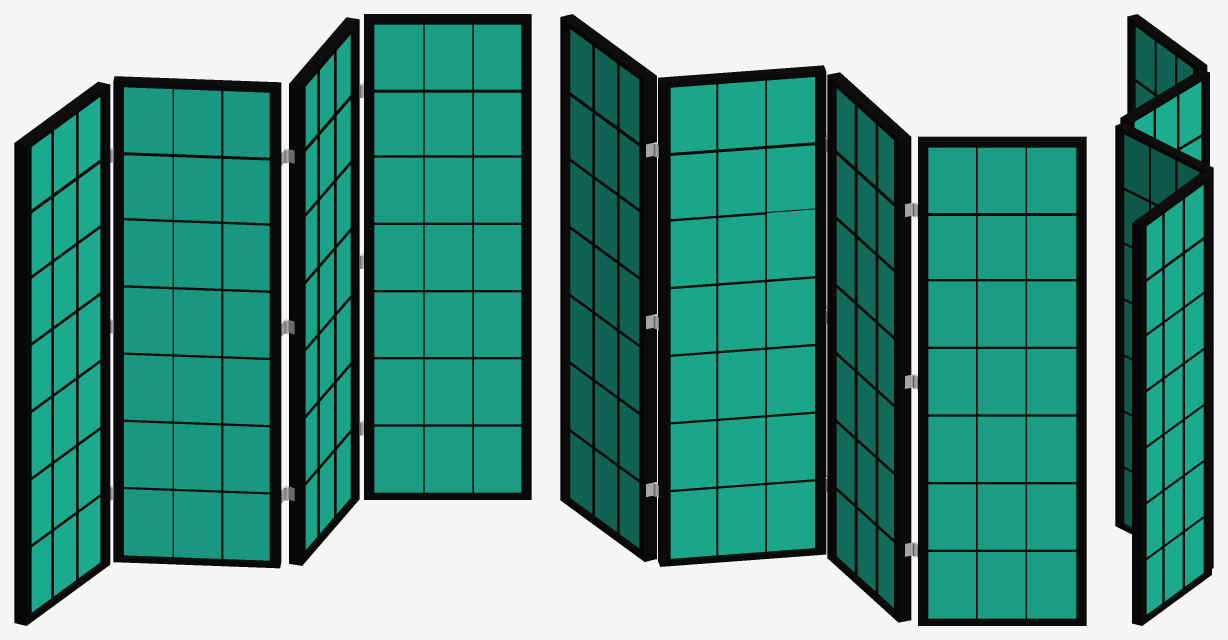
The model's file is paravent.FBX.
3 views of the same model, side by side, from view 1: azimuth 30°, elevation 25°; view 2: azimuth 150°, elevation 25°; view 3: azimuth 270°, elevation 25° (orthographic). The views are drawn at different scales.
Visible parts, largest first — view 1: Box275, Cylinder049; view 2: Box275, Cylinder049; view 3: Box275.
Part boxes in pixels (x1,y1,x2,y2): Box275: (14,14,531,625); Cylinder049: (110,81,363,503); Box275: (560,14,1086,625); Cylinder049: (646,134,917,557); Box275: (1115,14,1213,625).
Bounding box in the file's own units: 337 × 297 × 66.41.
